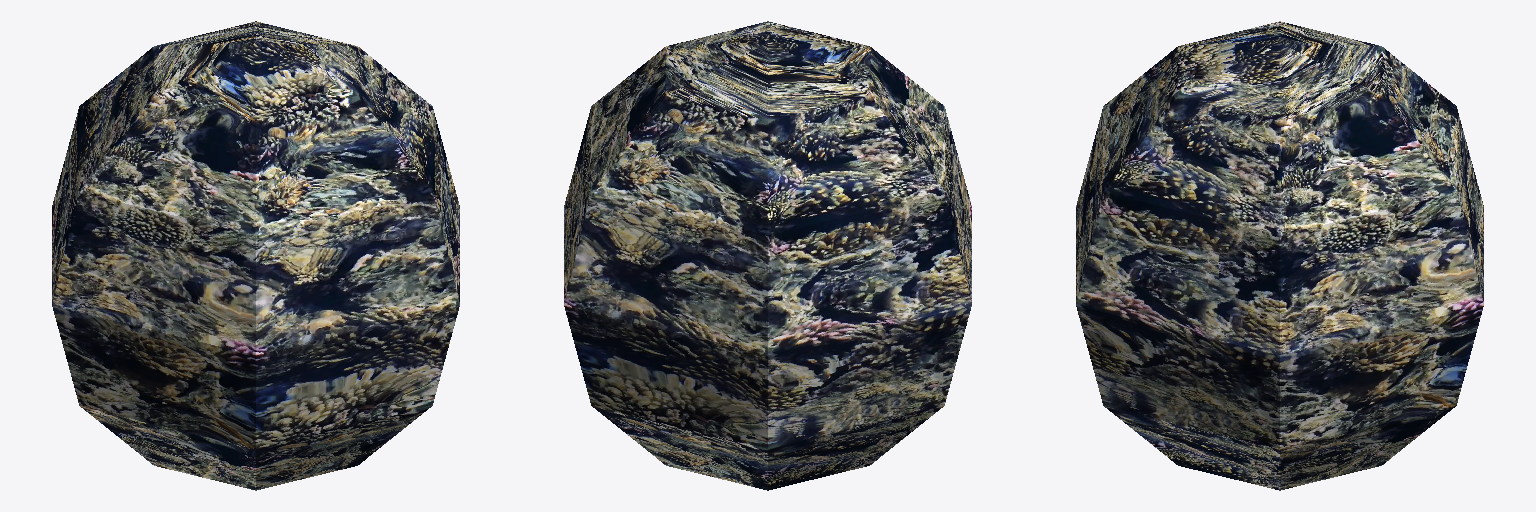
The picture shows the model from 3 angles: view 1: azimuth 30°, elevation 25°; view 2: azimuth 150°, elevation 25°; view 3: azimuth 270°, elevation 25°; orthographic projection.
Parts seen in each view (by area): view 1: pSphere1; view 2: pSphere1; view 3: pSphere1.
Boxes of the visible parts, box(x1,y1,x2,y2) form: pSphere1: box(52, 21, 459, 490); pSphere1: box(564, 21, 971, 490); pSphere1: box(1076, 21, 1483, 490).
Bounding box in the file's own units: 2 × 2 × 1.73.
1 materials, 1 textured.